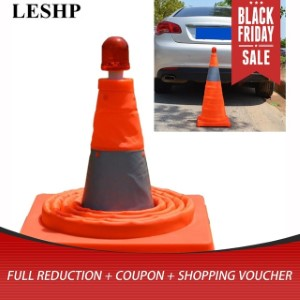traffic cone: (196, 46, 231, 127)
